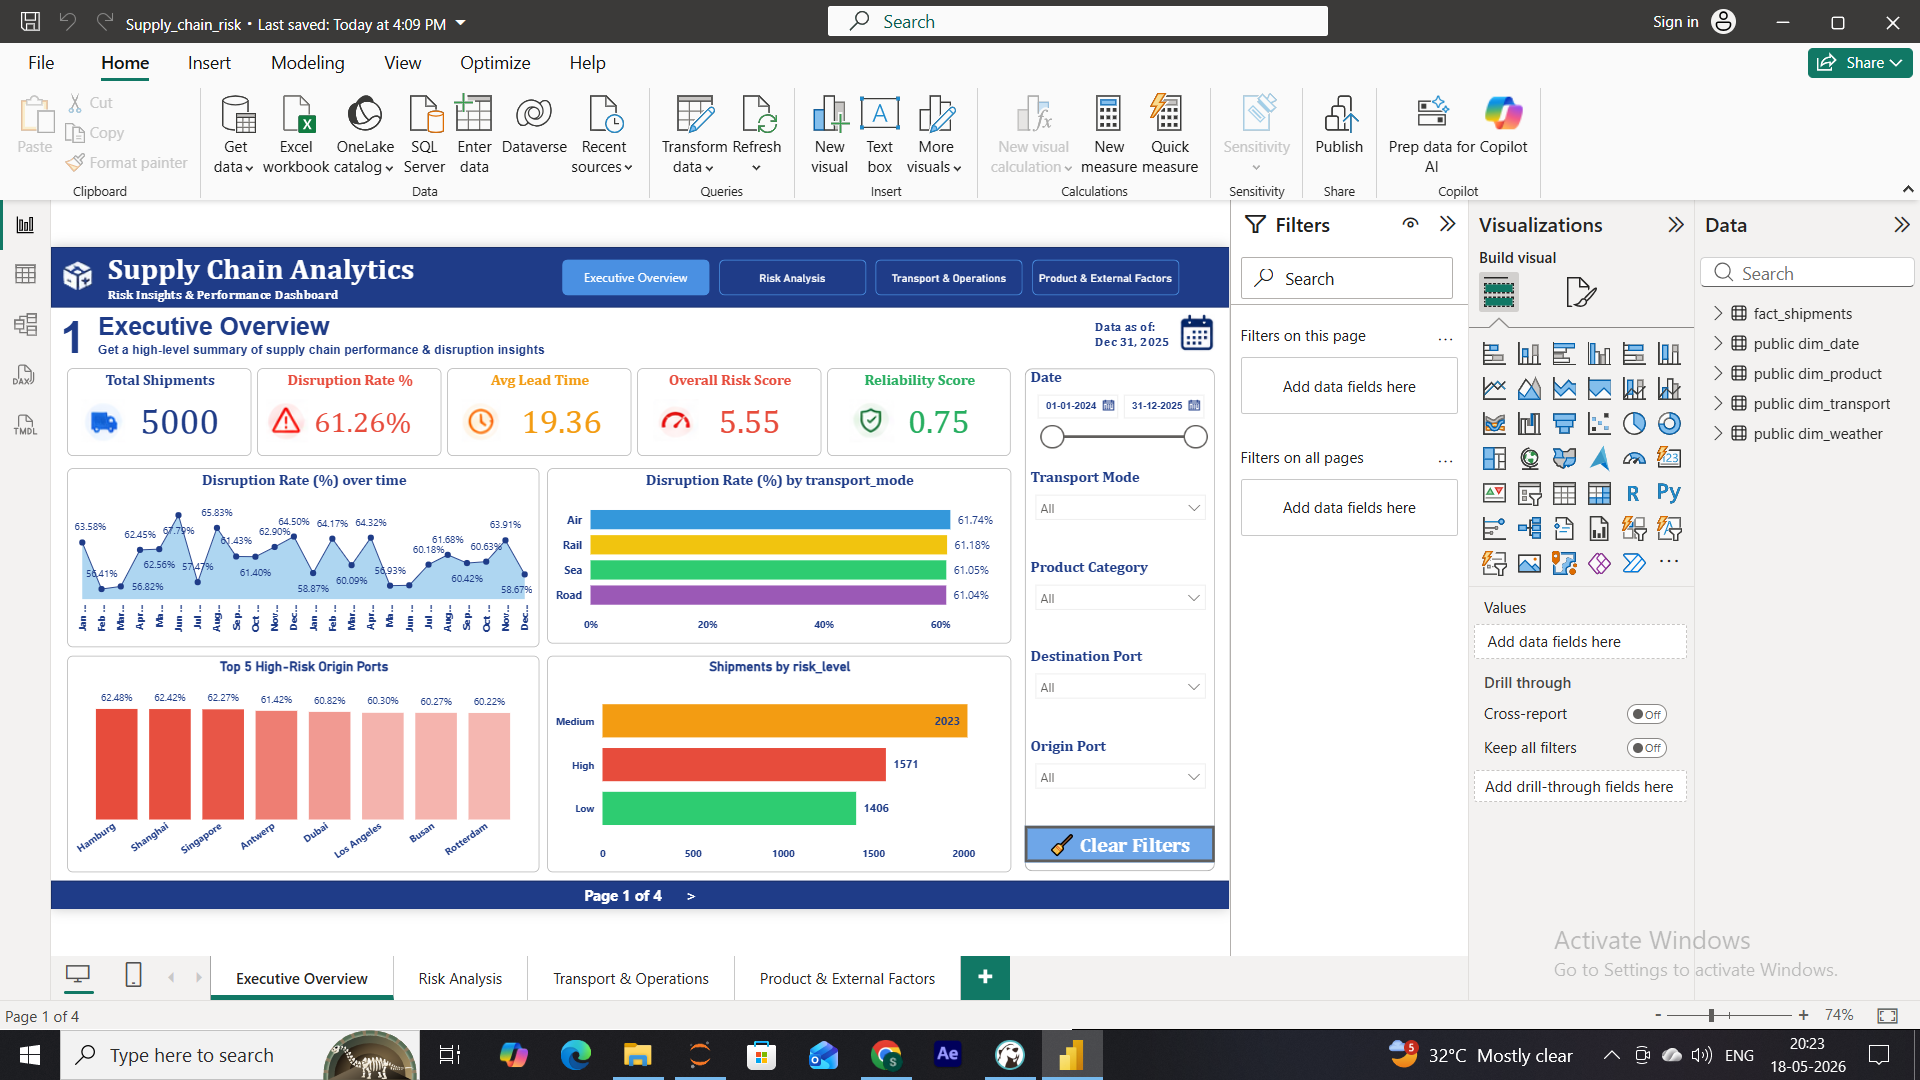

What the dashboard file says about the page in this screenshot:
{"tool":"powerbi","page":{"name":"Executive Overview","canvas":[1280,720],"ordinal":0},"visuals":[{"type":"shape","box":[1057.3,131.7,206.5,546.3],"z":0},{"type":"shape","box":[0,0,1280.3,65.9],"z":1000},{"type":"shape","box":[0,688.9,1280.3,31.6],"z":2000},{"type":"textbox","box":[0,688.9,1280.3,31.6],"z":3000},{"type":"pageNavigator","box":[555.7,13.7,672.4,39.8],"z":4000},{"type":"image","box":[0,6.8,57,52.9],"z":5000},{"type":"textbox","box":[57,0,397.8,221.3],"z":6000},{"type":"textbox","box":[5.4,66.5,46.2,80.1],"z":7000},{"type":"textbox","box":[46.2,66.5,791.5,99.1],"z":8000},{"type":"cardVisual","fields":{"Data":["fact_shipments.Last Updated"]},"box":[1104.7,33.6,159.7,120.1],"z":9000},{"type":"image","box":[1226,70.8,37.2,45.6],"z":10000},{"type":"cardVisual","title":"Total Shipments","fields":{"Data":["fact_shipments.Total Shipments"]},"box":[17.6,131.7,200,95],"z":11000},{"type":"barChart","title":"Shipments by risk_level","fields":{"Category":["fact_shipments.risk_level"],"Y":["fact_shipments.Total Shipments"]},"box":[539,444,503.7,234.9],"z":12000},{"type":"columnChart","title":"Top 5 High-Risk Origin Ports","fields":{"Category":["fact_shipments.origin_port"],"Y":["fact_shipments.Disruption Rate (%)"]},"box":[17.6,444,513.2,234.9],"z":13000},{"type":"lineChart","title":"Disruption Rate (%) over time","fields":{"Category":["fact_shipments.Month"],"Y":["fact_shipments.Disruption Rate (%)"]},"box":[17.6,240.3,513.2,194.1],"z":14000},{"type":"clusteredBarChart","fields":{"Category":["fact_shipments.transport_mode"],"Y":["fact_shipments.Disruption Rate (%)"]},"box":[539,240.3,503.7,190.1],"z":15000},{"type":"cardVisual","title":"Disruption Rate %","fields":{"Data":["fact_shipments.Disruption Rate (%)"]},"box":[224,131.7,200,95],"z":16000},{"type":"cardVisual","title":"Avg Lead Time","fields":{"Data":["fact_shipments.Avg Lead Time"]},"box":[430.4,131.7,200,95],"z":17000},{"type":"cardVisual","title":"Reliability Score","fields":{"Data":["fact_shipments.Avg Reliability"]},"box":[843.1,131.7,199.6,95],"z":18000},{"type":"slicer","title":"Date","fields":{"Values":["fact_shipments.date"]},"box":[1058.5,131.7,205.3,94.9],"z":19000},{"type":"slicer","title":"Transport Mode","fields":{"Values":["fact_shipments.transport_mode"]},"box":[1058.5,239.8,205.3,79.2],"z":20000},{"type":"slicer","title":"Product Category","fields":{"Values":["fact_shipments.product_category"]},"box":[1058.4,337.4,205,78.7],"z":21000},{"type":"slicer","title":"Destination Port","fields":{"Values":["fact_shipments.risk_level"]},"box":[1058.4,434.5,205,78.7],"z":22000},{"type":"slicer","title":"Origin Port","fields":{"Values":["fact_shipments.weather_condition"]},"box":[1058.4,531.7,205,78.7],"z":23000},{"type":"textbox","box":[1057.9,629.2,205.3,39.6],"z":24000},{"type":"actionButton","box":[1057.9,629.2,206.5,39.6],"z":25000},{"type":"cardVisual","title":"Overall Risk Score","fields":{"Data":["fact_shipments.Overall Risk Score"]},"box":[636.7,131.7,200,95],"z":26000},{"type":"image","box":[32.6,165.6,48.9,46.2],"z":27000},{"type":"image","box":[225.4,165.6,62.5,46.2],"z":28000},{"type":"image","box":[442.6,165.6,48.9,46.2],"z":29000},{"type":"image","box":[867.5,165.6,48.9,46.2],"z":30000},{"type":"image","box":[654.4,160.2,48.9,55.7],"z":31000}]}

Visuals, with their boxes on the page's 1280x720 design canvas (x1, y1, x2, y2). These are canvas units, not pixel positions in the 1920x1080 screenshot, which may show the page scaled, cropped or inside an application window:
shape: 1057, 132, 1264, 678
shape: 0, 0, 1280, 66
shape: 0, 689, 1280, 720
textbox: 0, 689, 1280, 720
pageNavigator: 556, 14, 1228, 54
image: 0, 7, 57, 60
textbox: 57, 0, 455, 221
textbox: 5, 66, 52, 147
textbox: 46, 66, 838, 166
cardVisual - fact_shipments.Last Updated: 1105, 34, 1264, 154
image: 1226, 71, 1263, 116
"Total Shipments" cardVisual: 18, 132, 218, 227
"Shipments by risk_level" barChart: 539, 444, 1043, 679
"Top 5 High-Risk Origin Ports" columnChart: 18, 444, 531, 679
"Disruption Rate (%) over time" lineChart: 18, 240, 531, 434
clusteredBarChart - fact_shipments.transport_mode x fact_shipments.Disruption Rate (%): 539, 240, 1043, 430
"Disruption Rate %" cardVisual: 224, 132, 424, 227
"Avg Lead Time" cardVisual: 430, 132, 630, 227
"Reliability Score" cardVisual: 843, 132, 1043, 227
"Date" slicer: 1058, 132, 1264, 227
"Transport Mode" slicer: 1058, 240, 1264, 319
"Product Category" slicer: 1058, 337, 1263, 416
"Destination Port" slicer: 1058, 434, 1263, 513
"Origin Port" slicer: 1058, 532, 1263, 610
textbox: 1058, 629, 1263, 669
actionButton: 1058, 629, 1264, 669
"Overall Risk Score" cardVisual: 637, 132, 837, 227
image: 33, 166, 82, 212
image: 225, 166, 288, 212
image: 443, 166, 492, 212
image: 868, 166, 916, 212
image: 654, 160, 703, 216
